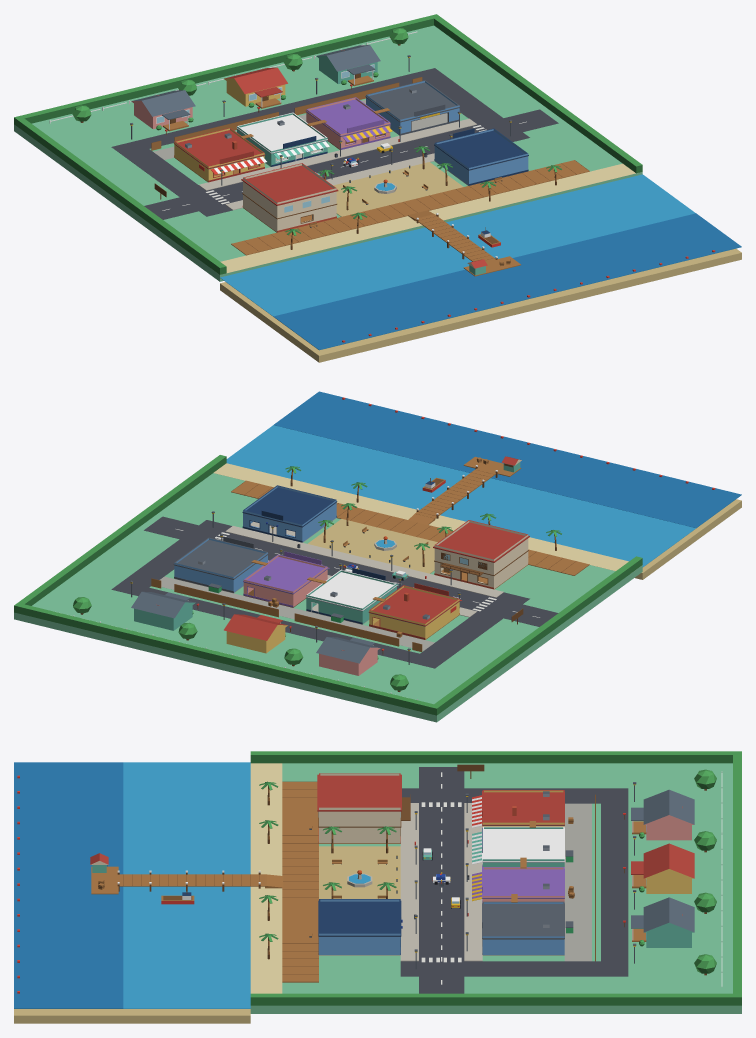
Rendered from Town.fbx.
3 renders of one model, top to bottom at view 1: azimuth 30°, elevation 25°; view 2: azimuth 150°, elevation 25°; view 3: azimuth 270°, elevation 25°, orthographic. The views are drawn at different scales.
Parts seen in each view (by area): view 1: Ground, Building_Apartments, Building_Police, Building_Garage, Building_Pizza, Building_Store, Building_Pawn, Dock, House_1, House_2, House_0, Props_Alley (+2 smaller); view 2: Ground, Building_Apartments, Building_Police, Building_Pizza, Building_Garage, Building_Store, Building_Pawn, Dock, Props_Alley, House_1, House_2, House_0 (+2 smaller); view 3: Ground, Building_Apartments, Building_Police, Building_Garage, Dock, Building_Store, Building_Pizza, Building_Pawn, House_0, House_2, House_1, Props_Lane (+3 smaller).
Boxes of the visible parts, left/top/right/bottom form: Ground: left=14, top=14, right=741, bottom=362; Building_Apartments: left=241, top=163, right=338, bottom=232; Building_Police: left=434, top=128, right=528, bottom=185; Building_Garage: left=365, top=80, right=460, bottom=135; Building_Pizza: left=173, top=128, right=266, bottom=182; Building_Store: left=236, top=112, right=329, bottom=166; Building_Pawn: left=306, top=97, right=392, bottom=149; Dock: left=285, top=165, right=561, bottom=276; House_1: left=224, top=67, right=287, bottom=112; House_2: left=316, top=45, right=380, bottom=89; House_0: left=131, top=90, right=195, bottom=134; Props_Alley: left=151, top=77, right=422, bottom=150; Ground: left=14, top=391, right=741, bottom=722; Building_Apartments: left=433, top=520, right=529, bottom=589; Building_Police: left=242, top=485, right=337, bottom=542; Building_Pizza: left=368, top=583, right=461, bottom=639; Building_Garage: left=173, top=536, right=268, bottom=593; Building_Store: left=306, top=568, right=398, bottom=624; Building_Pawn: left=243, top=551, right=329, bottom=607; Dock: left=285, top=456, right=561, bottom=550; Props_Alley: left=151, top=559, right=429, bottom=651; House_1: left=224, top=614, right=291, bottom=653; House_2: left=131, top=591, right=199, bottom=630; House_0: left=316, top=637, right=384, bottom=675; Ground: left=14, top=751, right=741, bottom=1023; Building_Apartments: left=317, top=773, right=410, bottom=843; Building_Police: left=318, top=899, right=402, bottom=955; Building_Garage: left=482, top=901, right=564, bottom=955; Dock: left=90, top=781, right=312, bottom=959; Building_Store: left=472, top=826, right=564, bottom=866; Building_Pizza: left=472, top=790, right=564, bottom=827; Building_Pawn: left=472, top=865, right=564, bottom=902; House_0: left=623, top=789, right=694, bottom=840; House_2: left=623, top=897, right=694, bottom=947; House_1: left=623, top=843, right=694, bottom=893; Props_Lane: left=633, top=769, right=722, bottom=986.
Size of the model in its own units: 64 by 6.6 by 80.
Materials: 1 (1 with a texture image).
